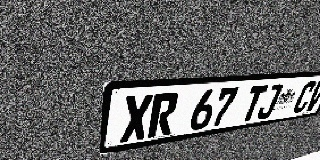6: (188, 89, 220, 131)
7: (208, 87, 239, 128)
C: (291, 81, 318, 114)
J: (255, 84, 284, 120)
R: (147, 92, 180, 138)
T: (239, 85, 268, 123)
V: (303, 80, 320, 112)
X: (120, 94, 153, 143)
